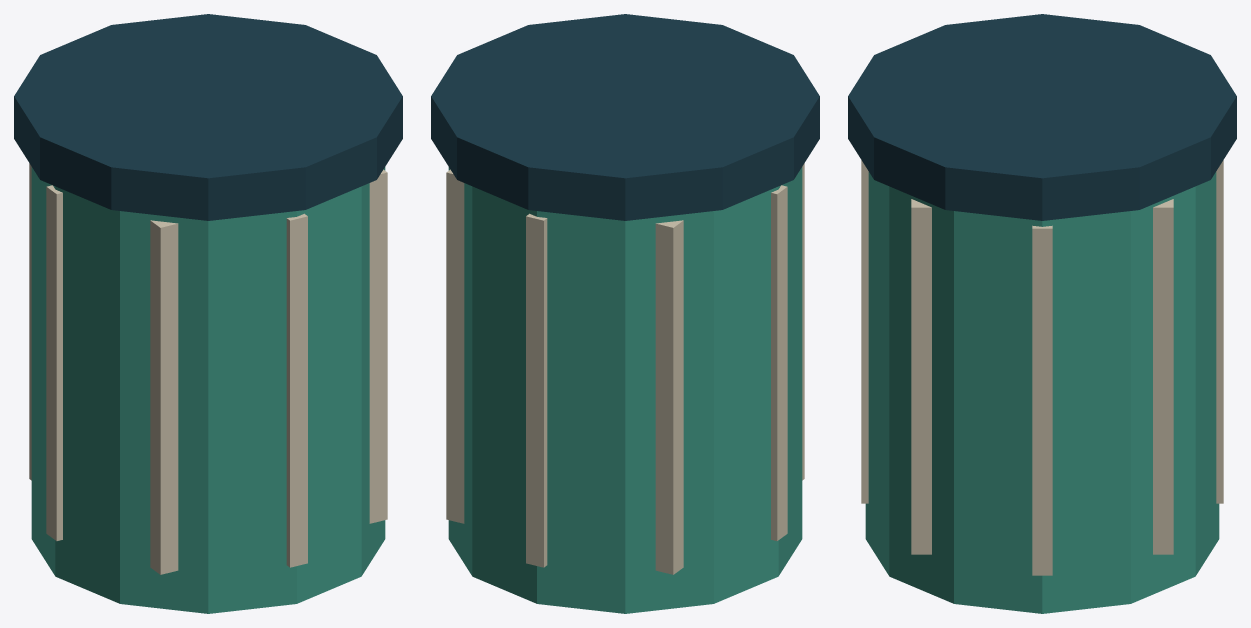
The model's file is recycling_bin.glb.
3 views of the same model, side by side, from view 1: azimuth 30°, elevation 25°; view 2: azimuth 150°, elevation 25°; view 3: azimuth 270°, elevation 25° (orthographic).
Parts seen in each view (by area): view 1: recycling_bin_pc; view 2: recycling_bin_pc; view 3: recycling_bin_pc.
Boxes of the visible parts, x1,y1,x2,y2 form: recycling_bin_pc: (14, 14, 402, 613); recycling_bin_pc: (431, 14, 819, 613); recycling_bin_pc: (848, 14, 1236, 613).
Bounding box in the file's own units: 0.66 × 0.83 × 0.66.
